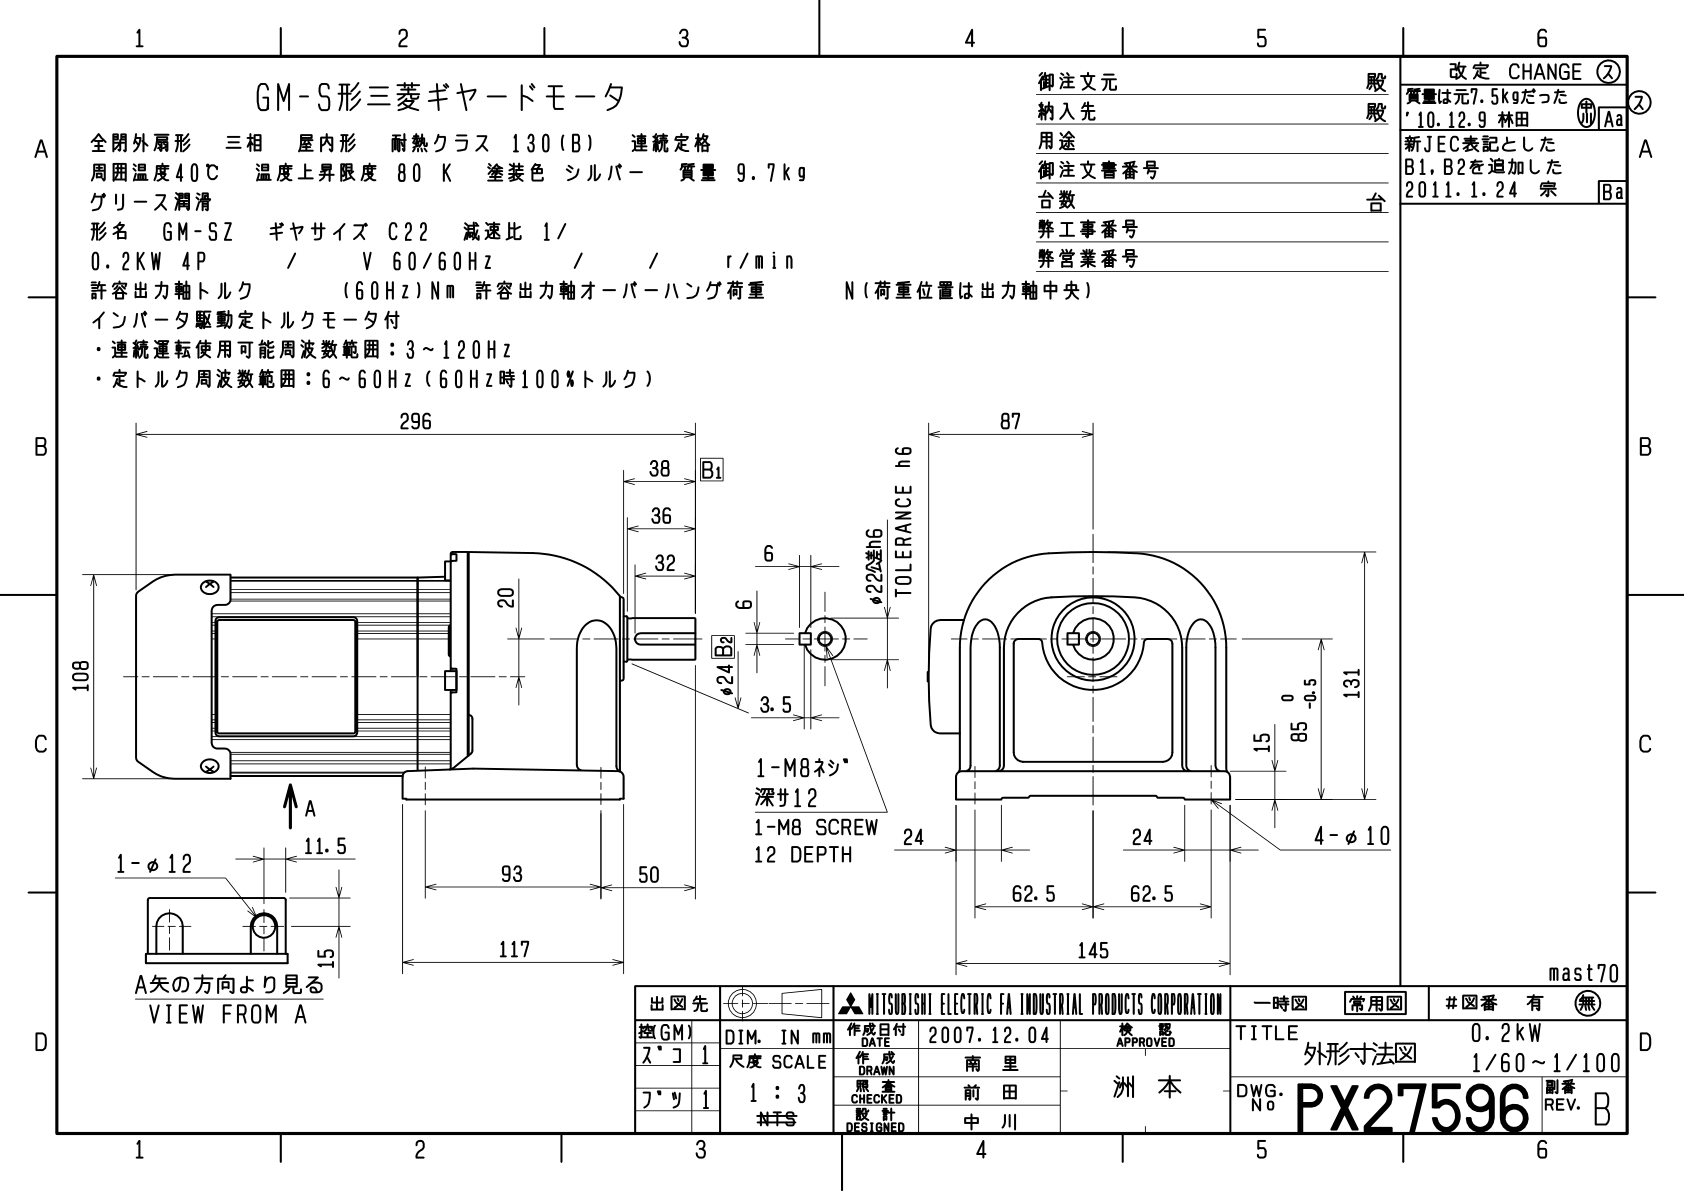GM_S_インバタ屋外＿三相_脚: (70, 391, 1395, 971)
